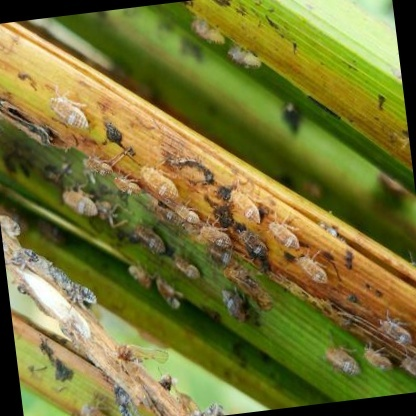Brown_hopper: (218, 242, 284, 326), (40, 74, 97, 140), (112, 334, 171, 387), (5, 227, 59, 283), (165, 180, 212, 240), (216, 276, 260, 340), (53, 178, 105, 231), (374, 296, 416, 360), (318, 325, 362, 383), (224, 177, 264, 235), (269, 205, 306, 264), (139, 155, 182, 205), (198, 206, 239, 258), (302, 240, 338, 296), (117, 248, 156, 299), (152, 268, 187, 324), (79, 136, 121, 182), (127, 214, 169, 256), (110, 156, 148, 202), (366, 336, 400, 383), (70, 390, 123, 416), (171, 247, 206, 286), (74, 390, 119, 416)
